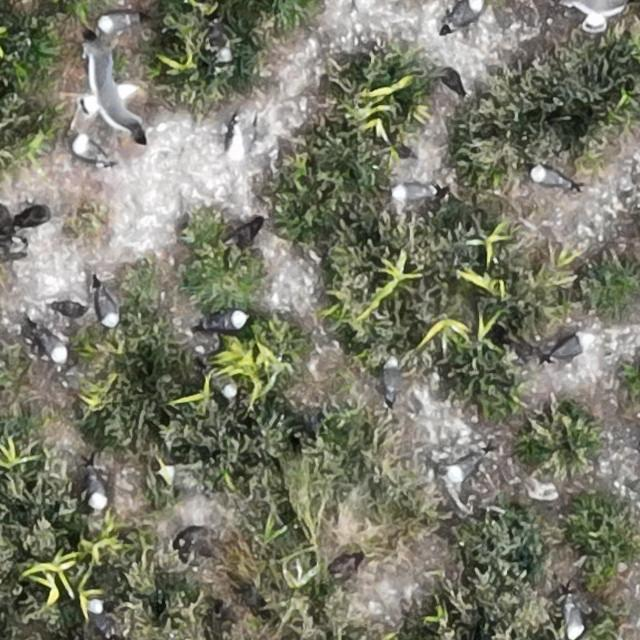F: (87, 55, 142, 138)
umineko: (158, 465, 205, 491), (227, 119, 254, 160), (75, 134, 108, 165), (382, 356, 401, 404), (208, 371, 238, 398), (451, 1, 482, 26), (551, 336, 584, 358), (97, 292, 118, 326), (90, 604, 112, 636), (44, 333, 68, 362), (531, 167, 567, 186), (393, 184, 430, 202), (212, 309, 246, 328), (88, 475, 107, 508), (100, 13, 131, 33), (566, 605, 584, 639), (449, 458, 476, 478)
